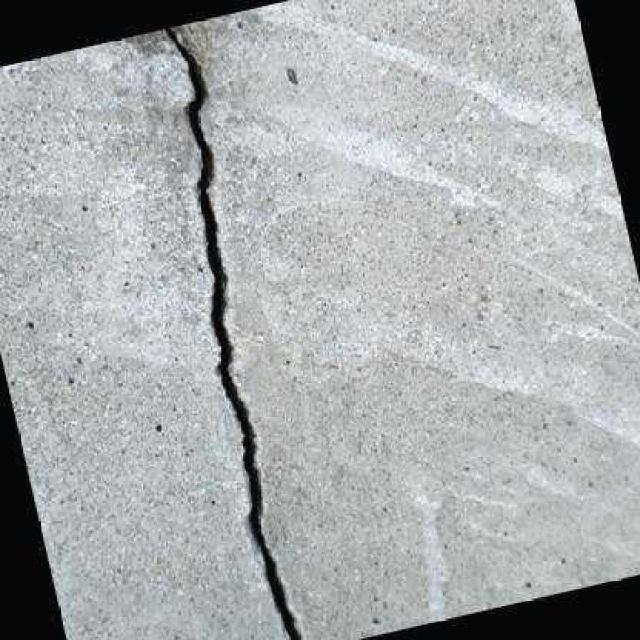D00: (161, 26, 300, 640)
